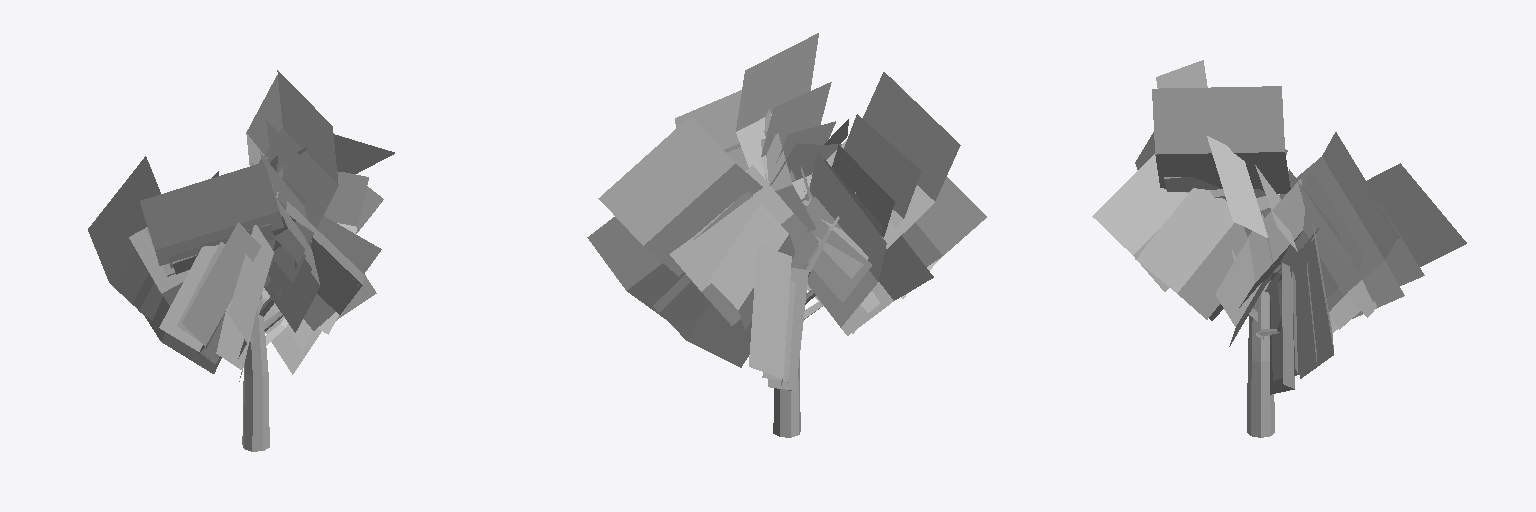
Rendered from acacia_bb.obj.
The picture shows the model from 3 angles: view 1: azimuth 30°, elevation 25°; view 2: azimuth 150°, elevation 25°; view 3: azimuth 270°, elevation 25°; orthographic projection.
Visible parts, largest first — view 1: plant; view 2: plant; view 3: plant.
Boxes of the visible parts, box(x1,y1,x2,y2) form: plant: box(88, 70, 394, 451); plant: box(587, 33, 986, 437); plant: box(1092, 60, 1466, 437).
Size of the model in its own units: 32.31 by 36.08 by 33.95.